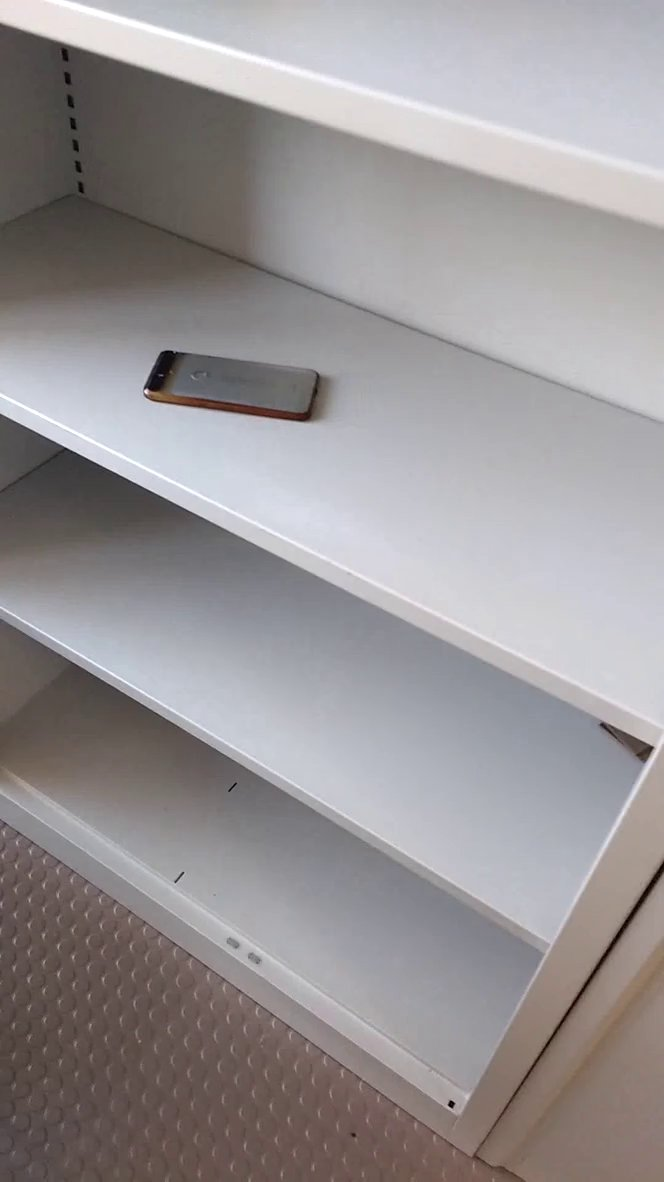phone: (137, 345, 332, 430)
